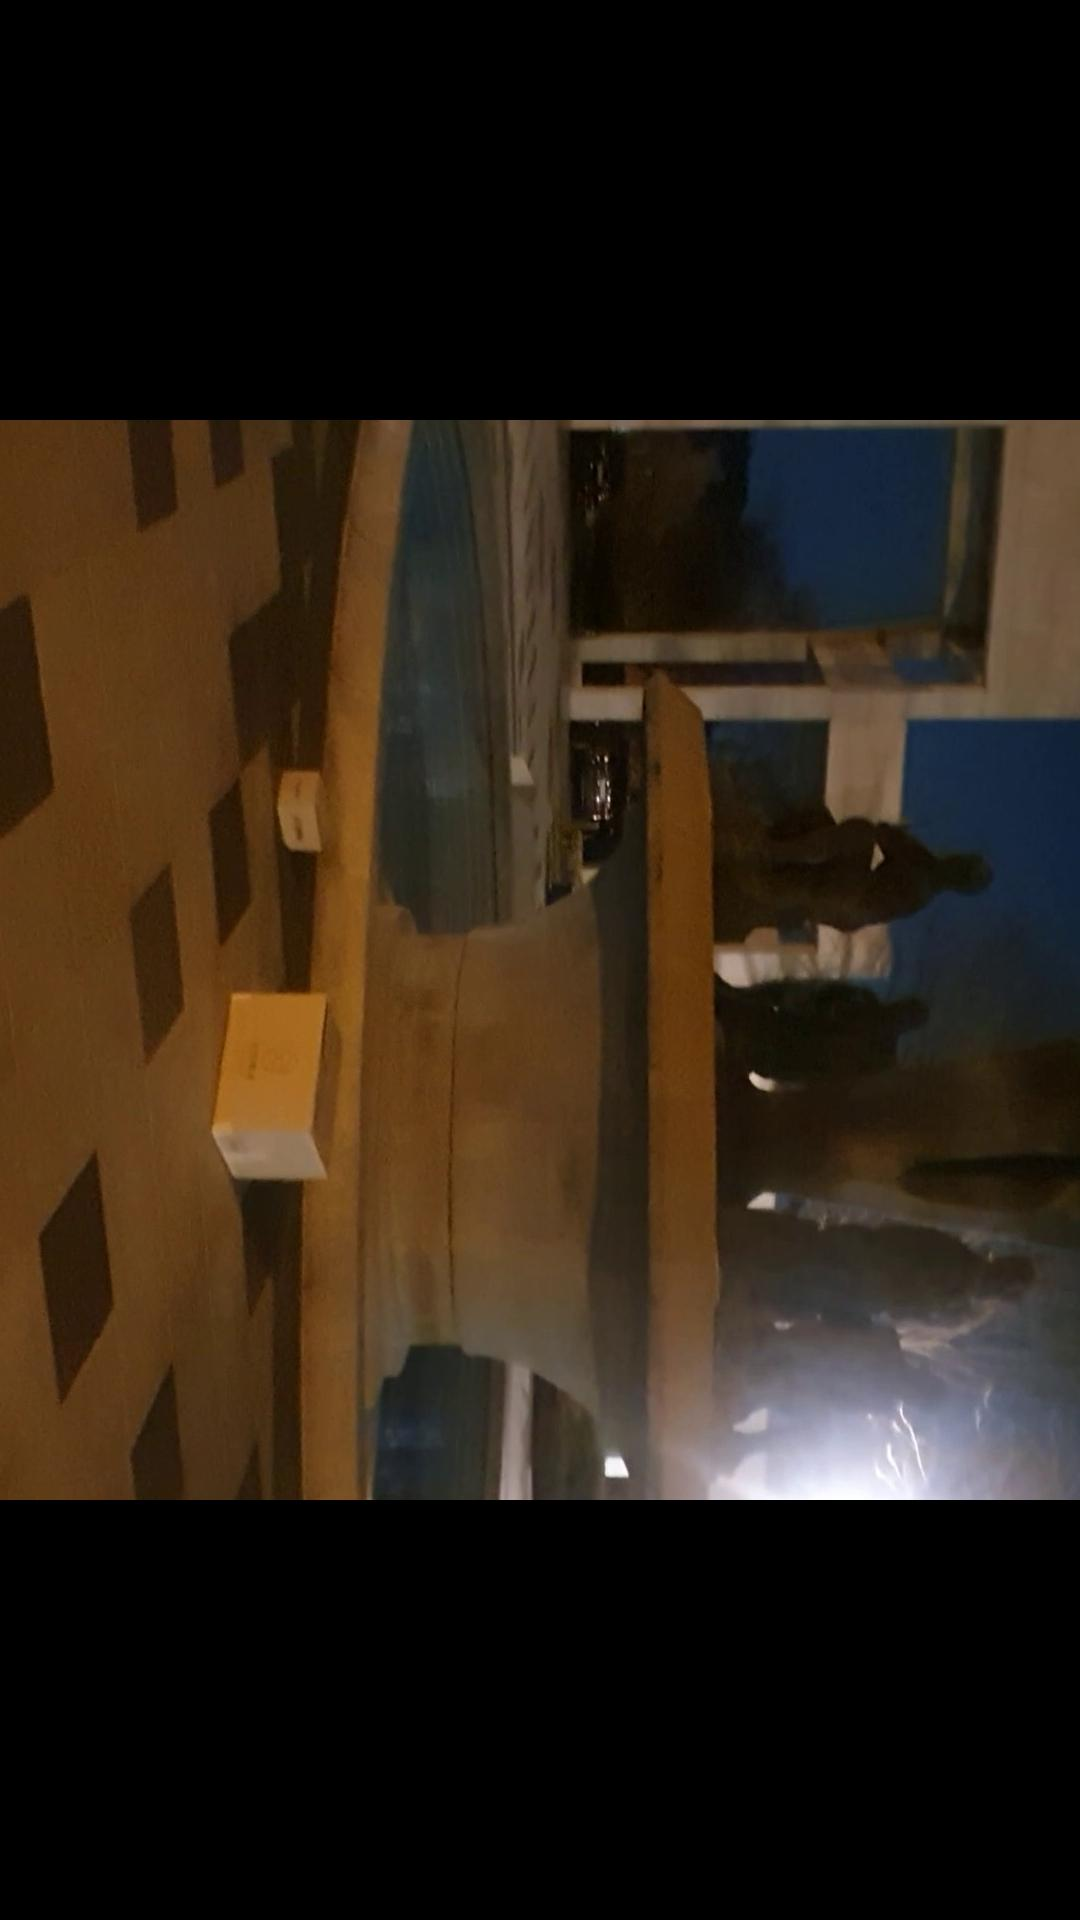Box: (202, 986, 352, 1192), (270, 756, 335, 858)
